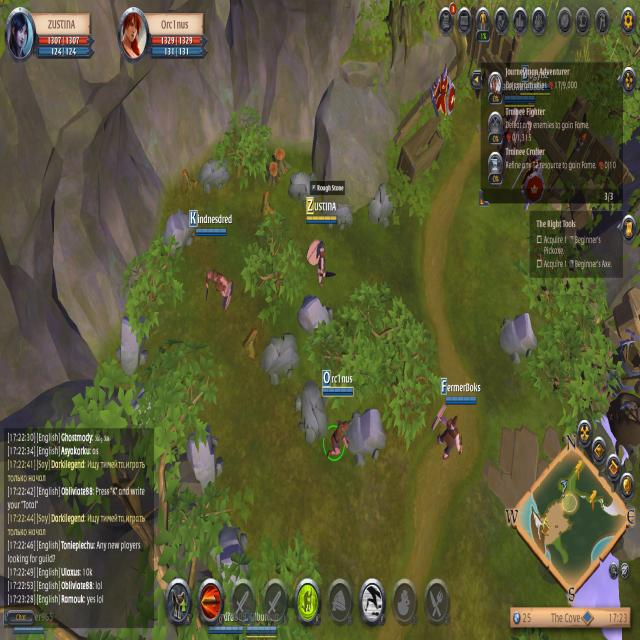broken stone: (296, 373, 328, 446), (259, 335, 297, 383), (193, 153, 234, 194), (367, 184, 400, 230), (322, 192, 359, 233), (290, 164, 318, 208)
stone: (148, 200, 204, 260), (341, 405, 386, 468), (113, 308, 154, 376), (496, 306, 539, 368), (298, 287, 336, 350), (213, 514, 248, 576), (185, 427, 218, 487)
